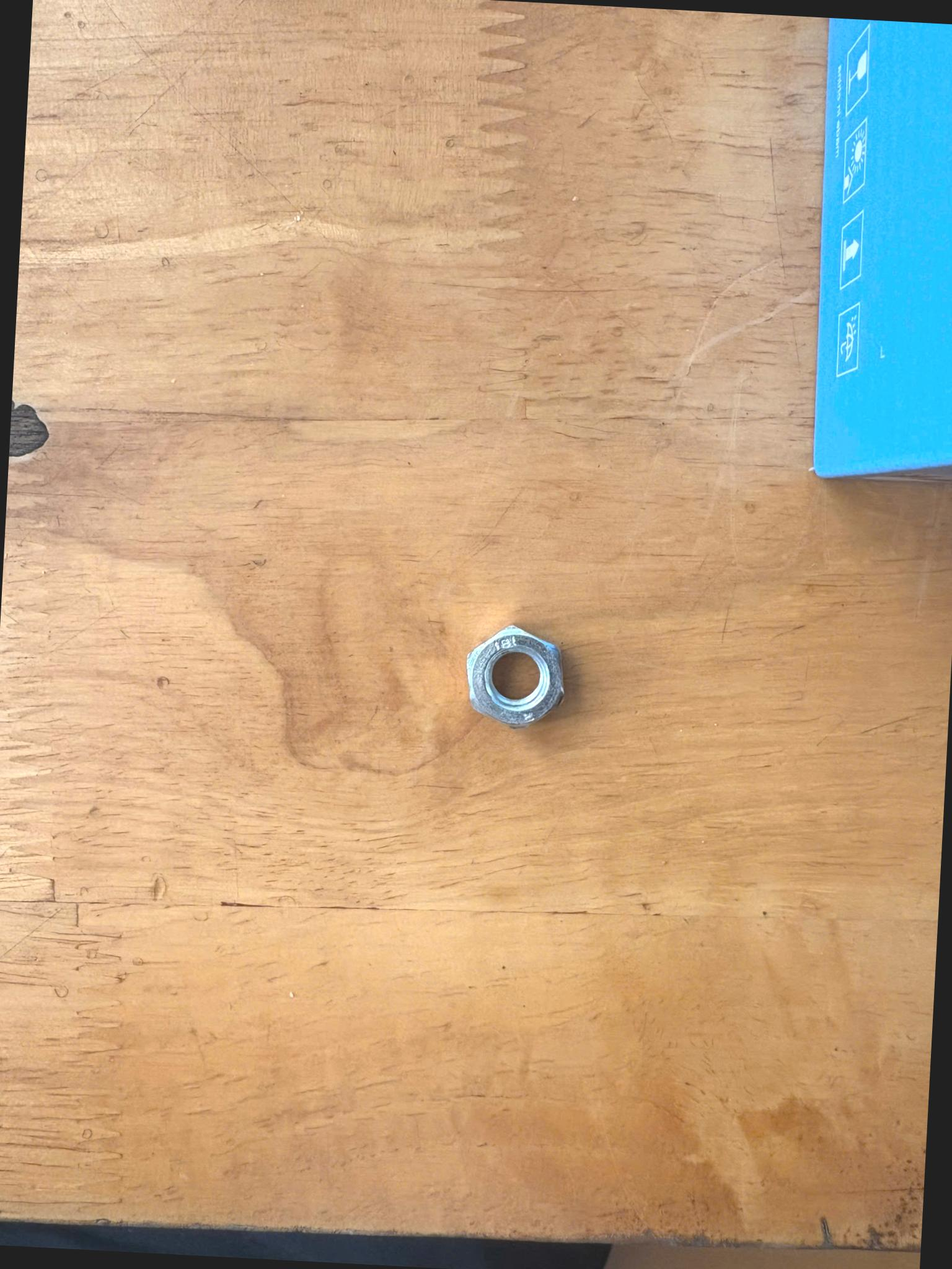nut: (458, 610, 586, 749)
